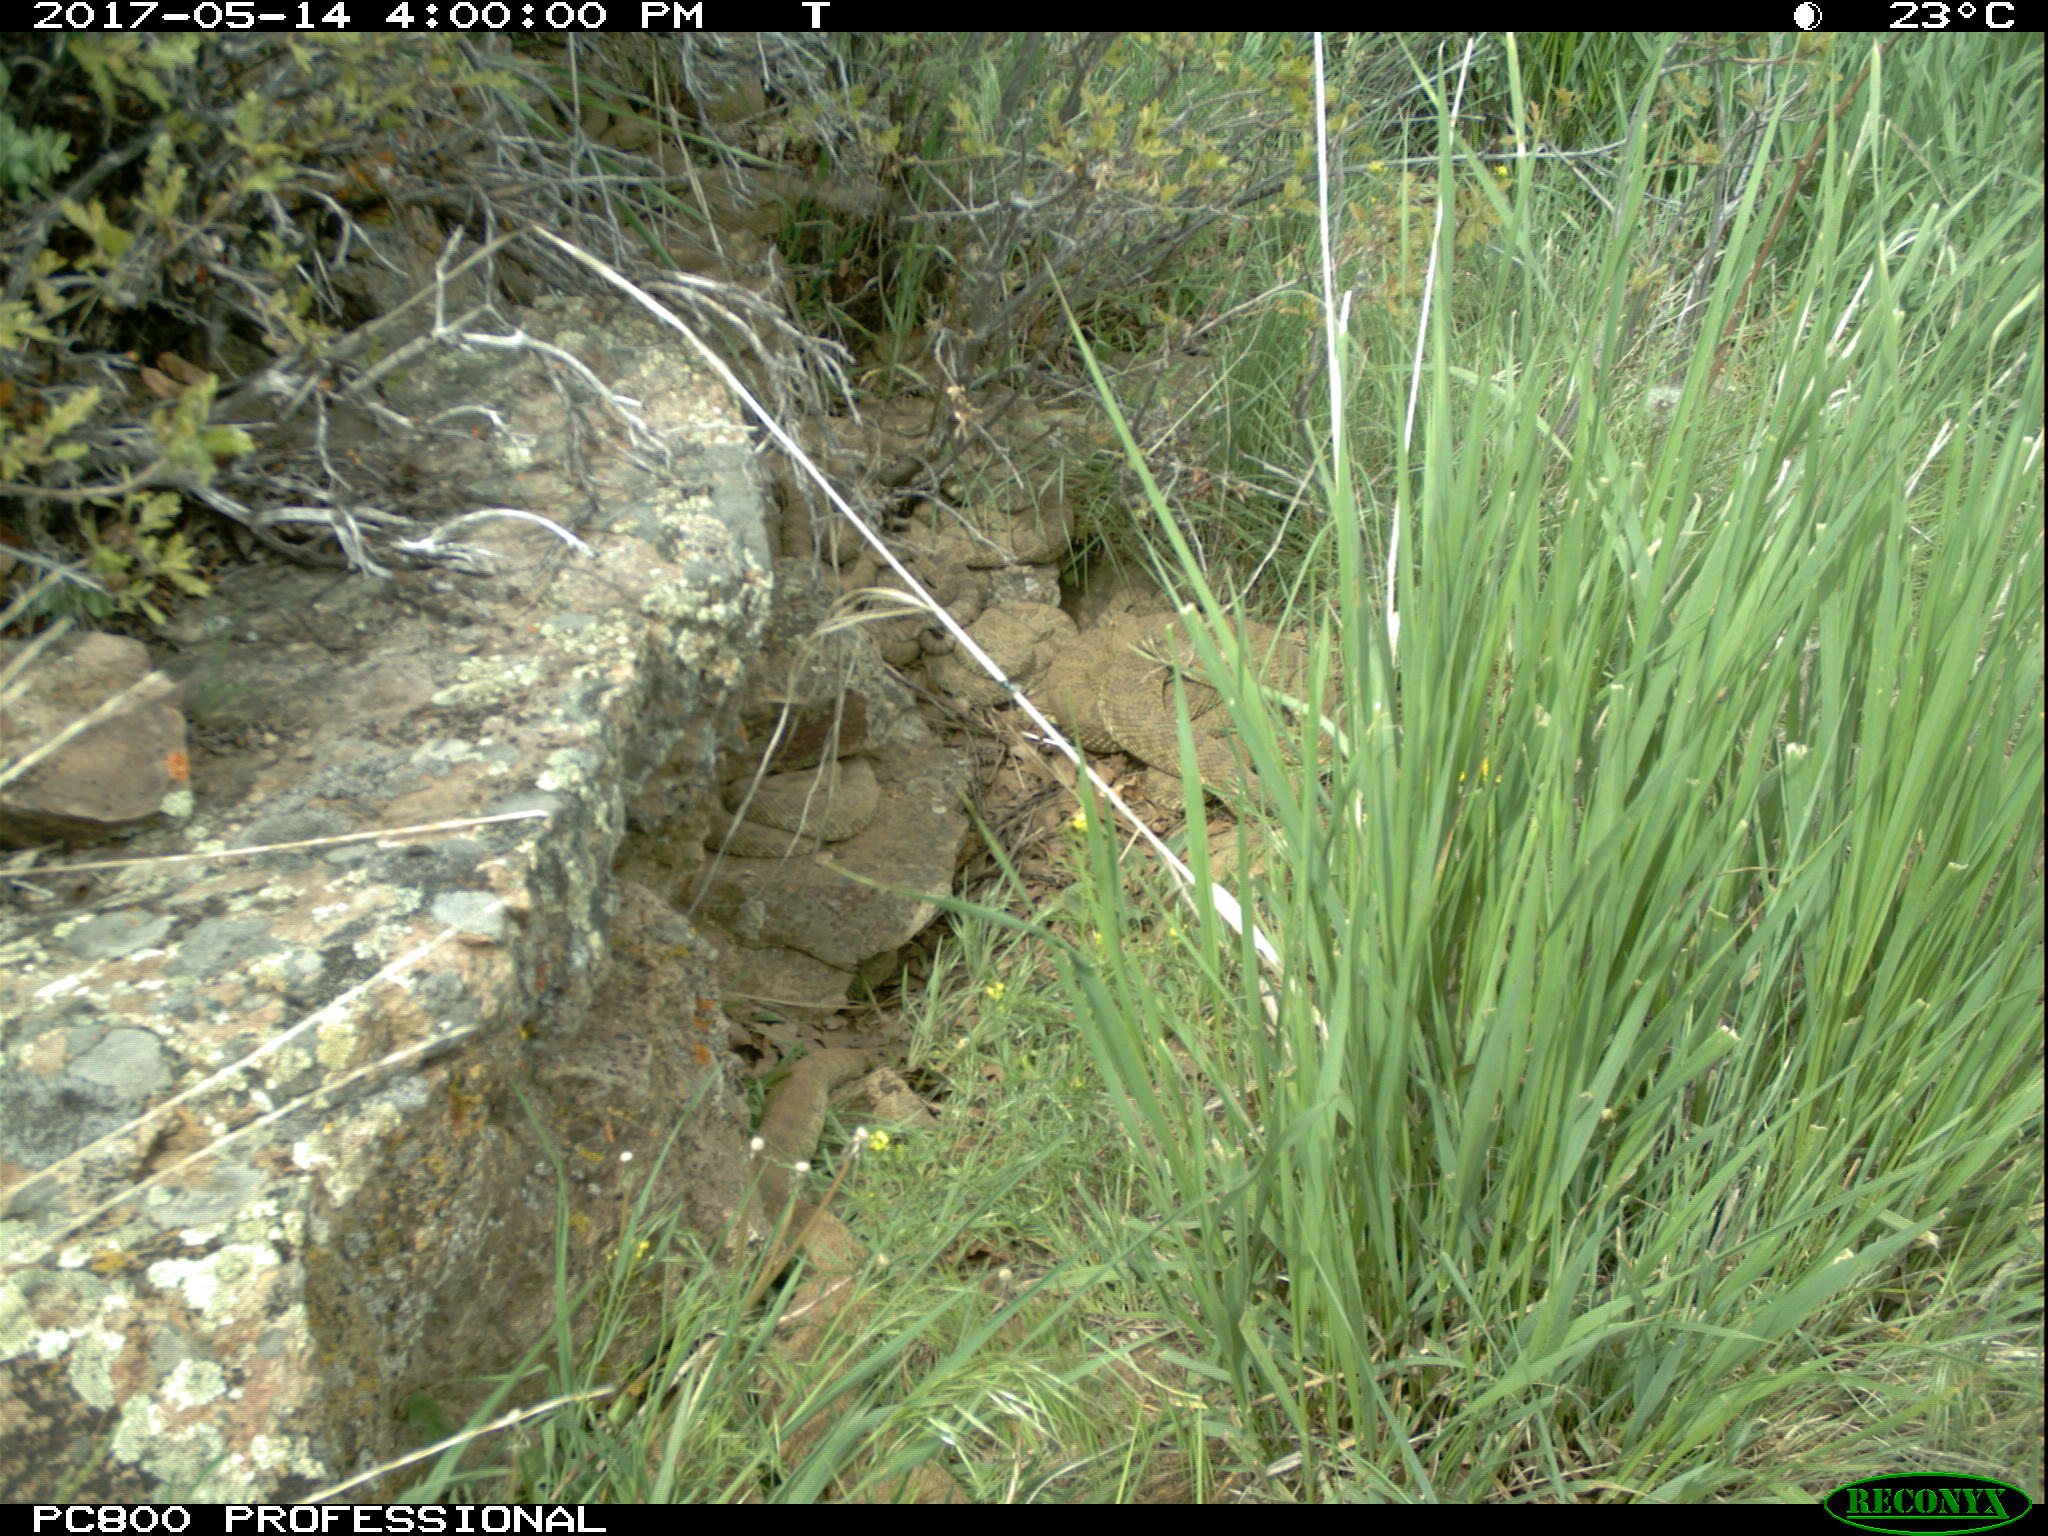snake: (1050, 611, 1338, 831), (743, 1046, 877, 1497), (914, 586, 1085, 699), (708, 757, 880, 862), (822, 536, 976, 652), (918, 466, 1080, 566), (685, 77, 774, 150), (576, 111, 664, 153)
